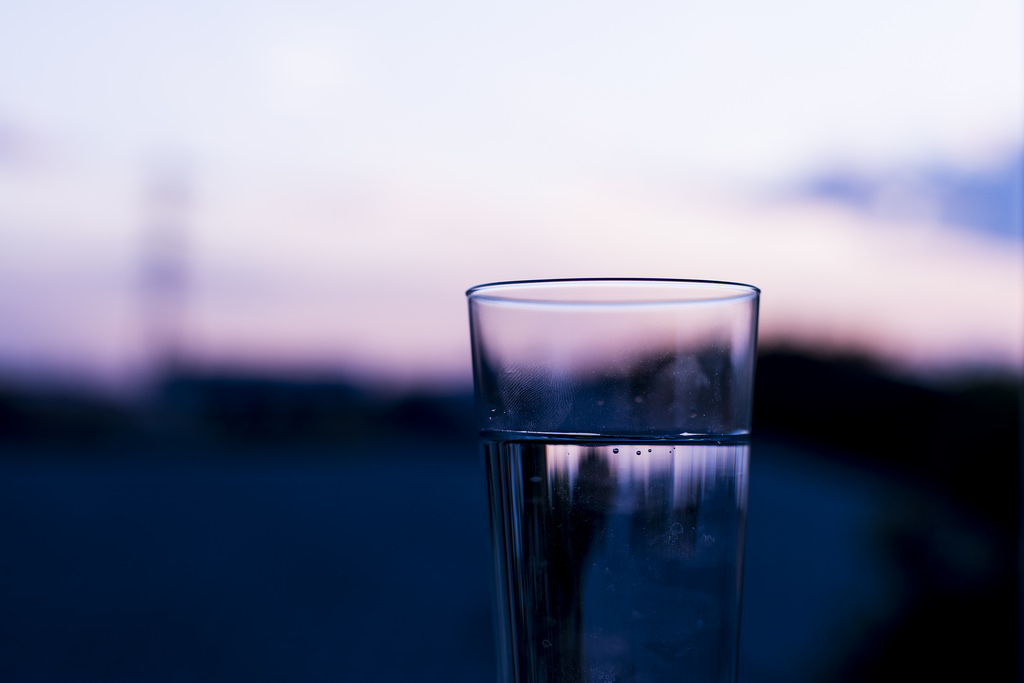glass of water: (449, 261, 773, 683)
